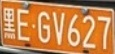E: (17, 9, 30, 41)
